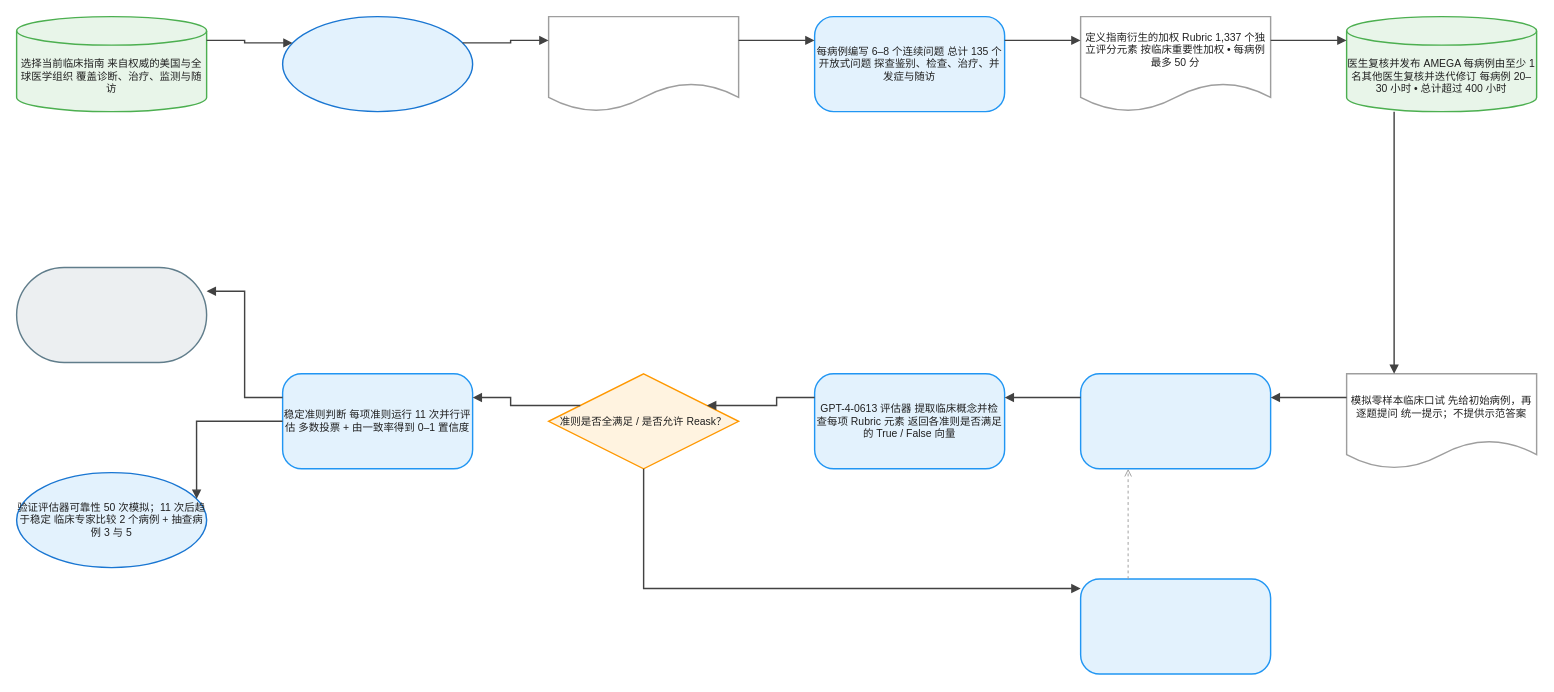
The diagram is 1554 pixels wide and 692 high, and some of its shapes have lost their labels. The centre of each missing label's shape, as x and y in pixels:
"AMEGA 指南遵循结果 布尔结果乘权重后求和 问题 / 病例分、50 分均值、归一化缺陷与成本" goes at (111,314).
"候选模型回答 回答当前临床问题 按顺序继续完成整个病例" goes at (1175,421).
"引导式 Reask 与自我反思 告知未满足准则，让候选补充细节 对会造成即时后果的关键错误跳过 Reask" goes at (1175,626).
"由资深医生构建基准 每位均有超过 5 年临床经验 选择指南并将建议转化为病例" goes at (377,63).
"编写 20 个虚构临床病例 覆盖 13 个医学专科 主诉、病史、查体、化验与影像" goes at (643,63).
